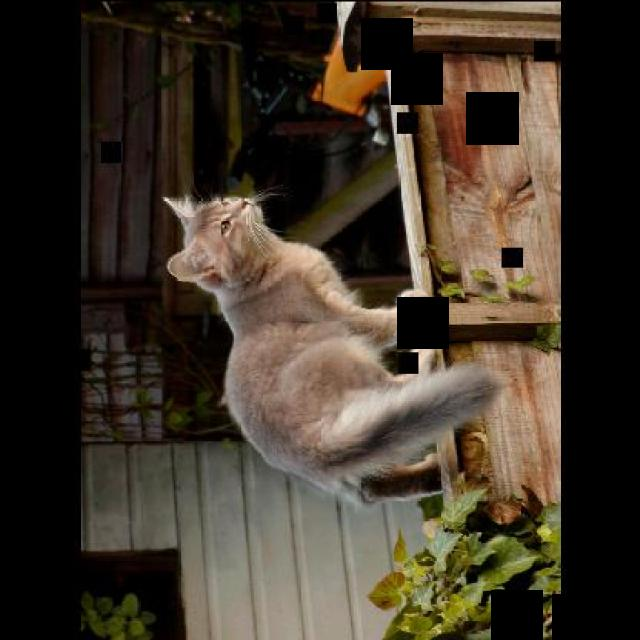unauthorized: (160, 186, 502, 508)
